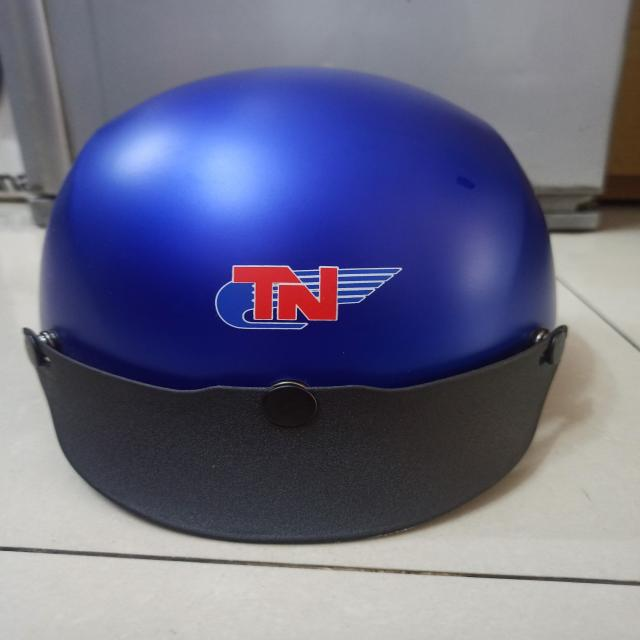Helmet: (21, 63, 571, 545)
